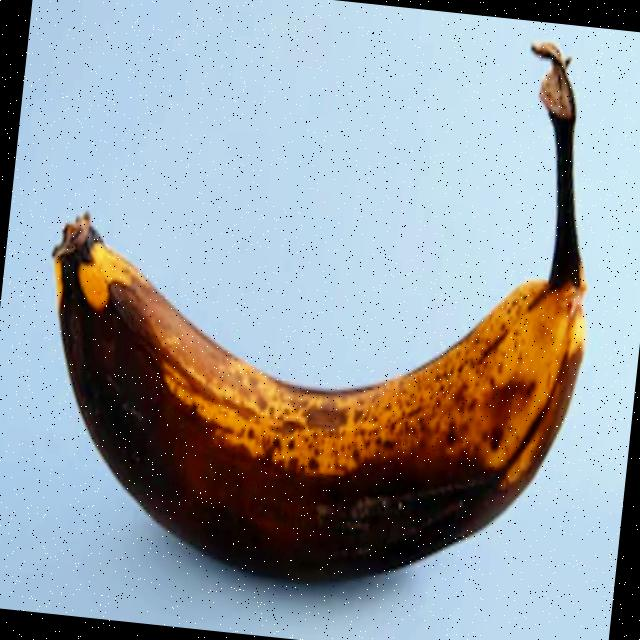Rotten: (5, 0, 626, 628)
